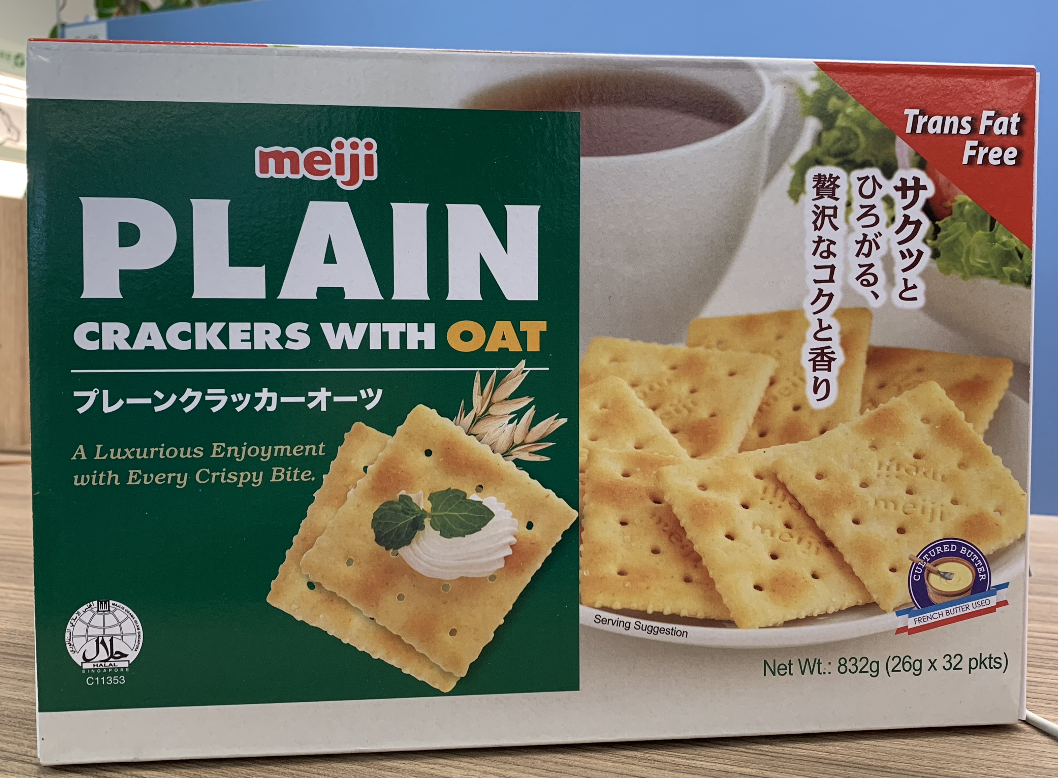crackers_800g-899g: (52, 99, 1018, 697)
